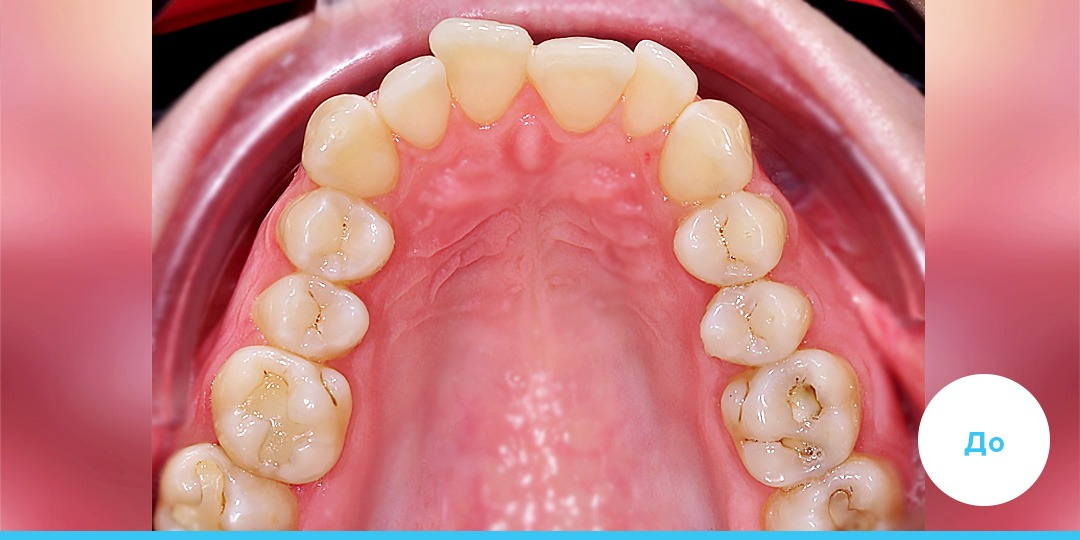UL1BC_decay: (680, 193, 783, 278)
UL1M_decay: (732, 363, 863, 485)
UL2BC_healthy: (697, 280, 811, 365)
ULCI_healthy: (525, 35, 630, 130)
ULC_healthy: (668, 105, 754, 195)
ULLI_healthy: (626, 45, 691, 132)
UR1BC_healthy: (280, 185, 394, 279)
UR1M_decay: (213, 354, 352, 484)
UR2BC_decay: (251, 282, 369, 355)
UR2M_decay: (162, 461, 297, 528)
URCI_healthy: (433, 19, 530, 123)
URC_healthy: (305, 94, 401, 195)
URLI_healthy: (377, 61, 453, 149)
